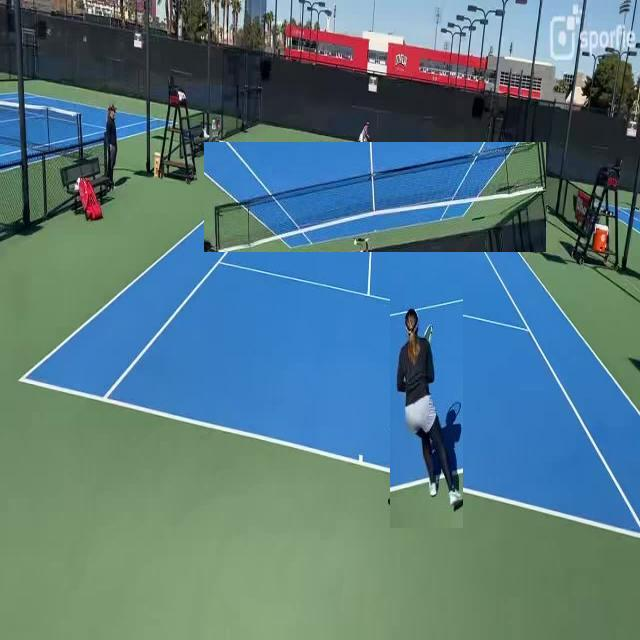court: (12, 225, 640, 535)
net: (204, 142, 546, 252)
player: (390, 270, 463, 528)
